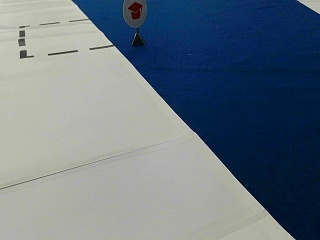school: (122, 1, 147, 26)
